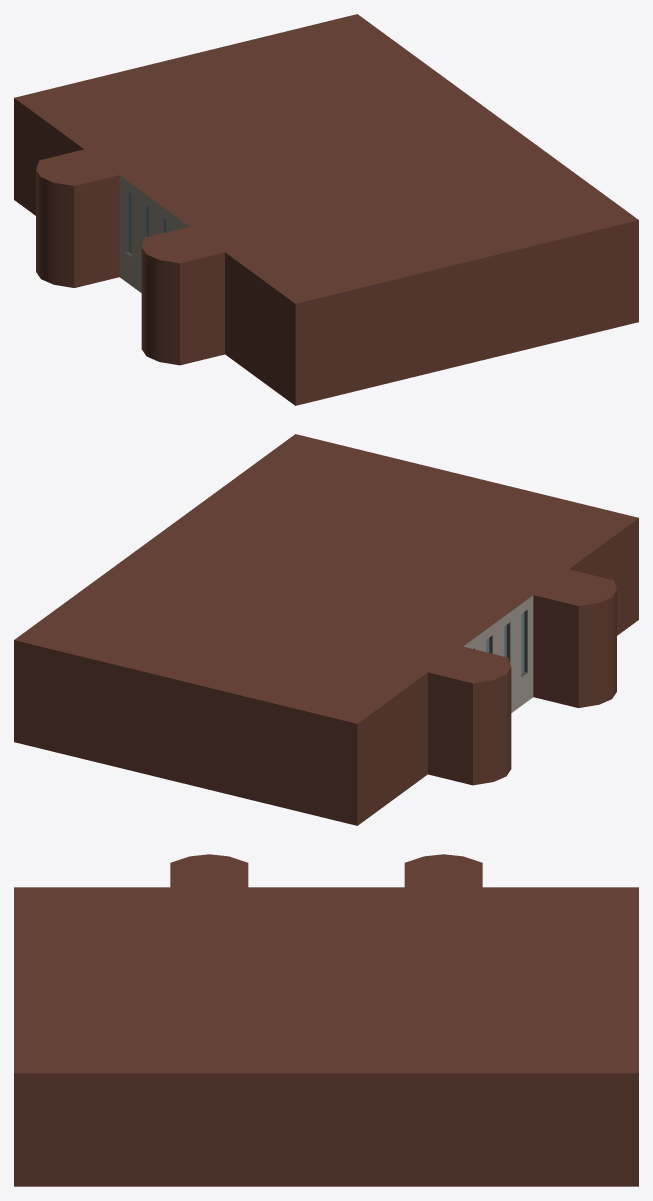
Rendered from Split_Mid.fbx.
3 views of the same model, one above another, from view 1: azimuth 30°, elevation 25°; view 2: azimuth 150°, elevation 25°; view 3: azimuth 270°, elevation 25° (orthographic). The views are drawn at different scales.
Parts seen in each view (by area): view 1: Split_Building_Mid; view 2: Split_Building_Mid; view 3: Split_Building_Mid.
Boxes of the visible parts, x1,y1,x2,y2 form: Split_Building_Mid: [14, 14, 638, 405]; Split_Building_Mid: [14, 434, 638, 825]; Split_Building_Mid: [14, 854, 638, 1186].
Size of the model in its own units: 2074 by 500 by 2500.
